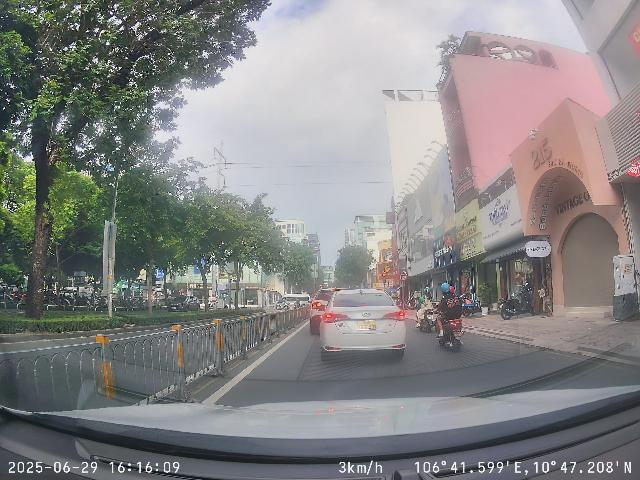123b-cam-re-phai: (398, 273, 407, 281)
